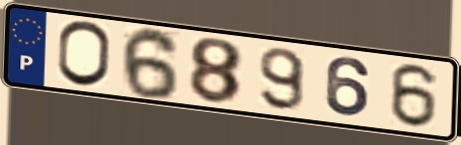6: (119, 24, 182, 101), (386, 62, 441, 131), (324, 55, 373, 120)
8: (186, 35, 247, 106)
9: (257, 46, 307, 113)
O: (54, 18, 114, 90)
